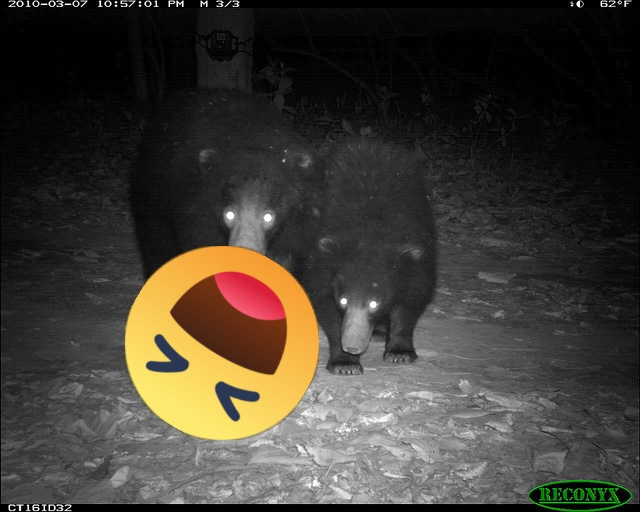haha: (125, 246, 319, 440)
